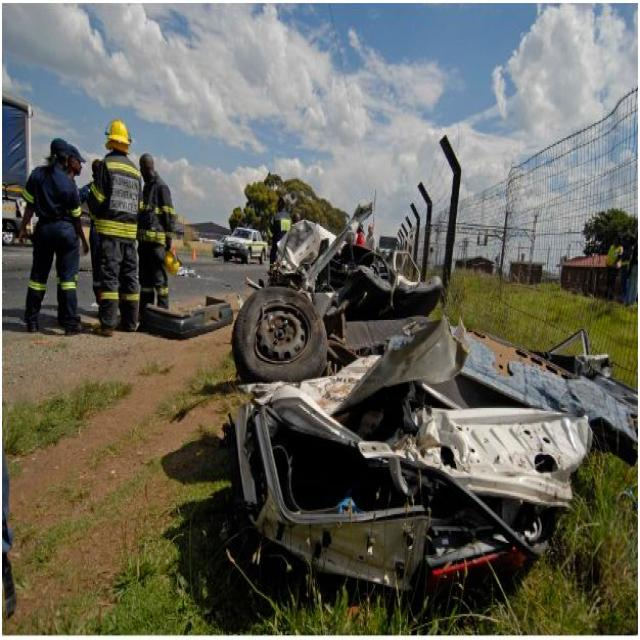crush: (220, 203, 638, 591)
